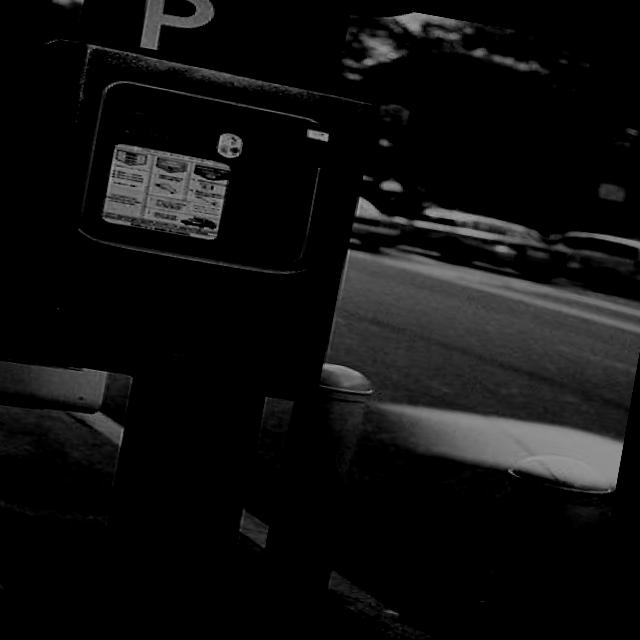Vehicle: (392, 205, 583, 286), (546, 223, 640, 300), (341, 193, 404, 256)
